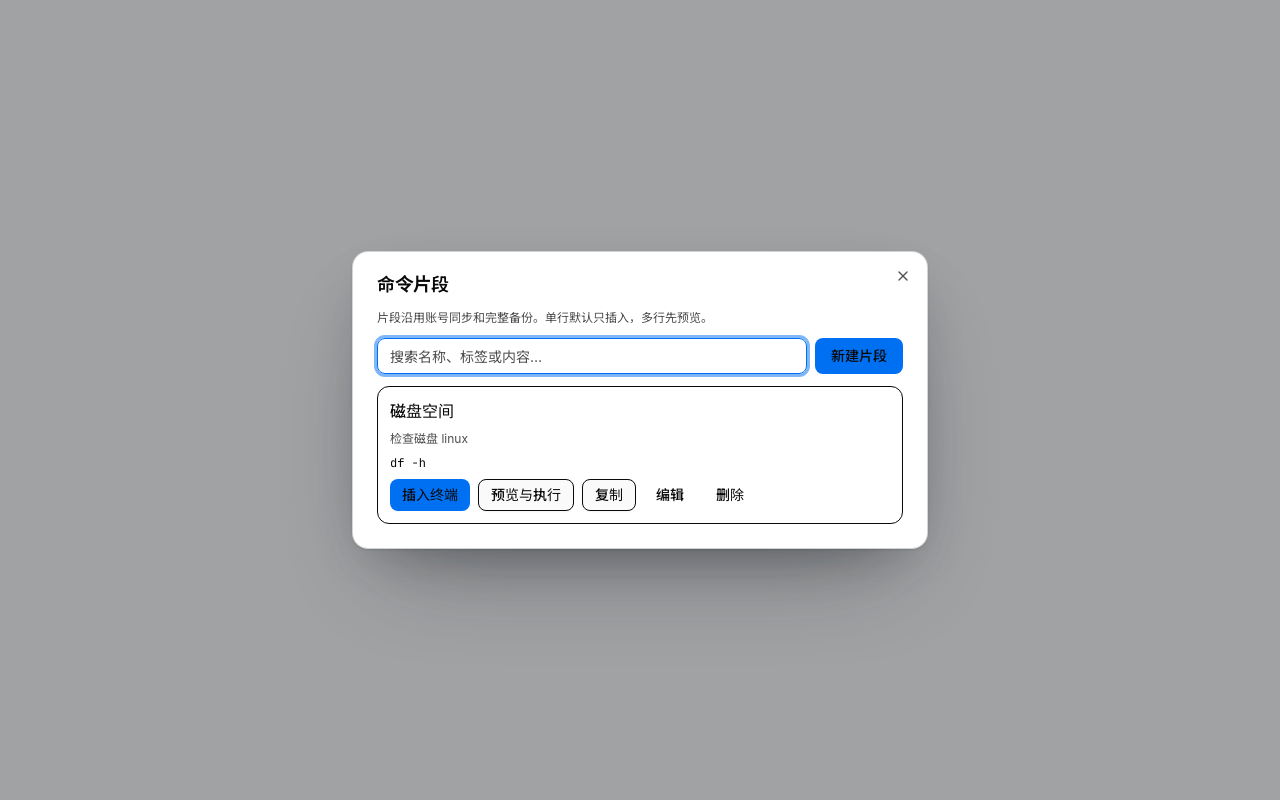
Test: deletes only after the second explicit selection and removes the accepted row
The width and height of the screenshot is (1280, 800).
Click the button "删除".
click(730, 495)  # box top-left (704, 479), bottom-right (756, 511)
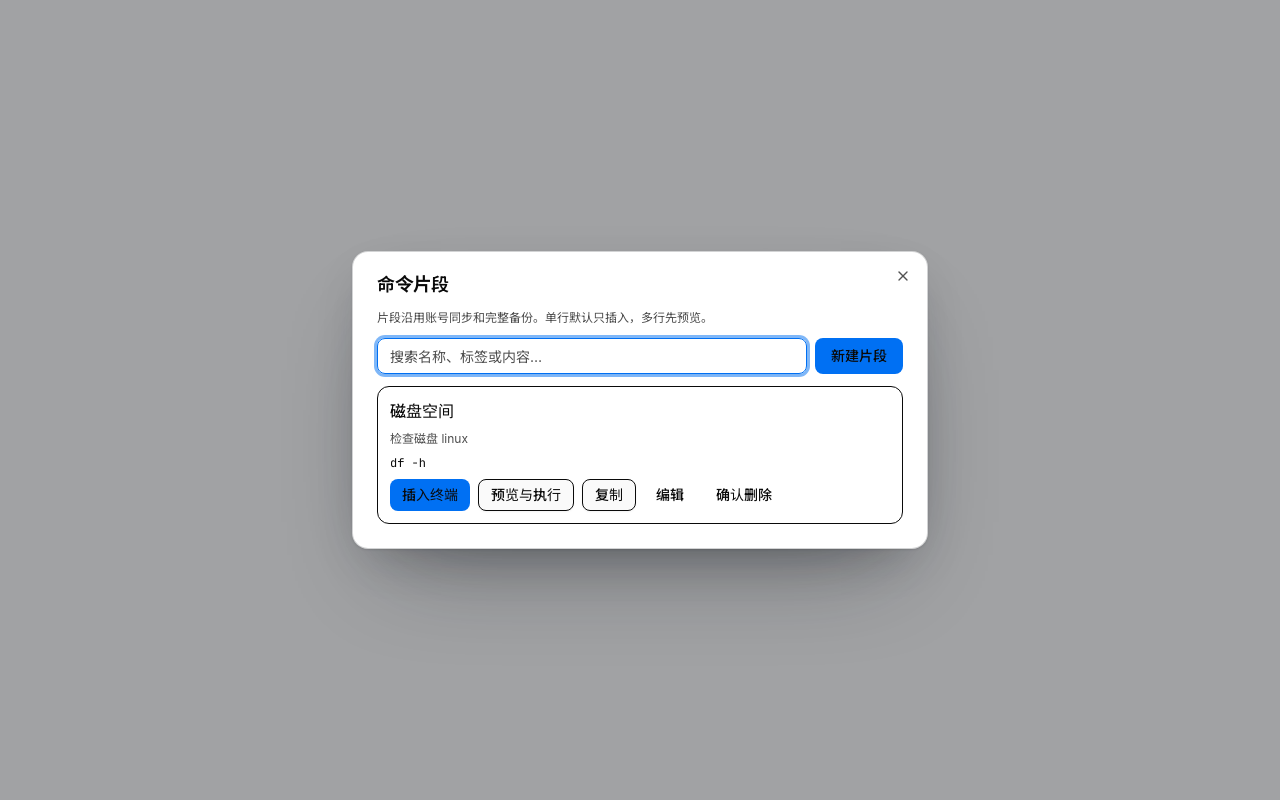
Click the button "确认删除".
click(744, 495)  # box top-left (704, 479), bottom-right (784, 511)
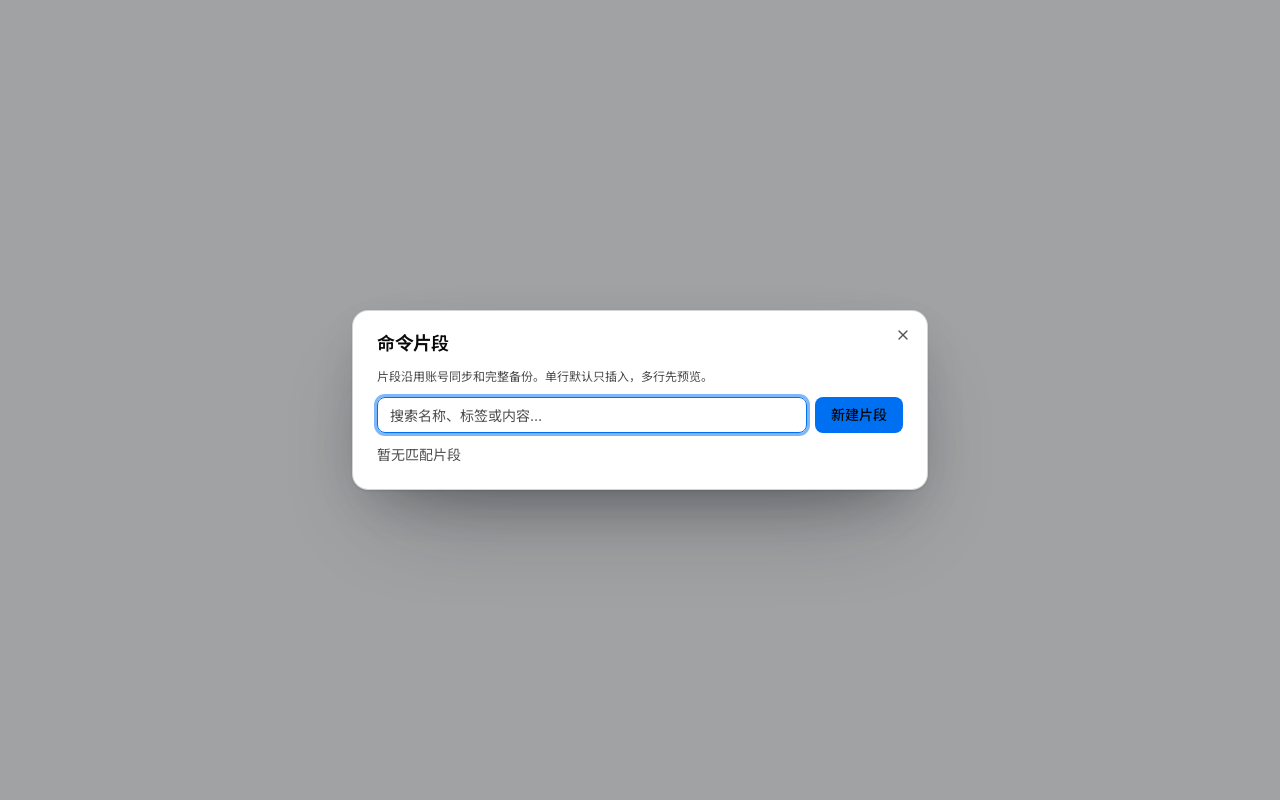
Now the text "暂无匹配片段" is shown, box top-left (377, 446), bottom-right (461, 463)
